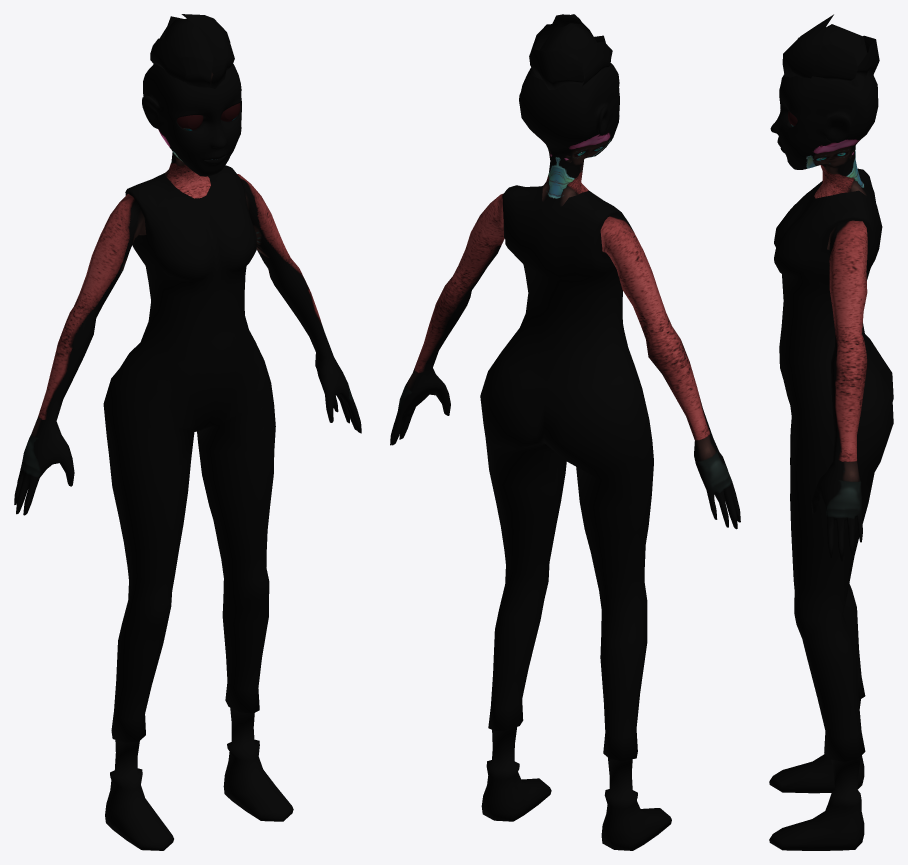
Rendered from mesh_Aira.fbx.
The picture shows the model from 3 angles, left to right: view 1: azimuth 30°, elevation 25°; view 2: azimuth 150°, elevation 25°; view 3: azimuth 270°, elevation 25°; orthographic projection.
Visible parts, largest first — view 1: Cabeza.Final, Pelo.Final; view 2: Cabeza.Final, Pelo.Final; view 3: Cabeza.Final, Pelo.Final.
Part boxes in pixels (x1,y1,x2,y2): Cabeza.Final: (14, 64, 361, 850); Pelo.Final: (150, 14, 234, 88); Cabeza.Final: (390, 63, 740, 850); Pelo.Final: (529, 14, 612, 89); Cabeza.Final: (769, 74, 893, 850); Pelo.Final: (782, 14, 879, 86).
Bounding box in the file's own units: 704 × 1575 × 223.
